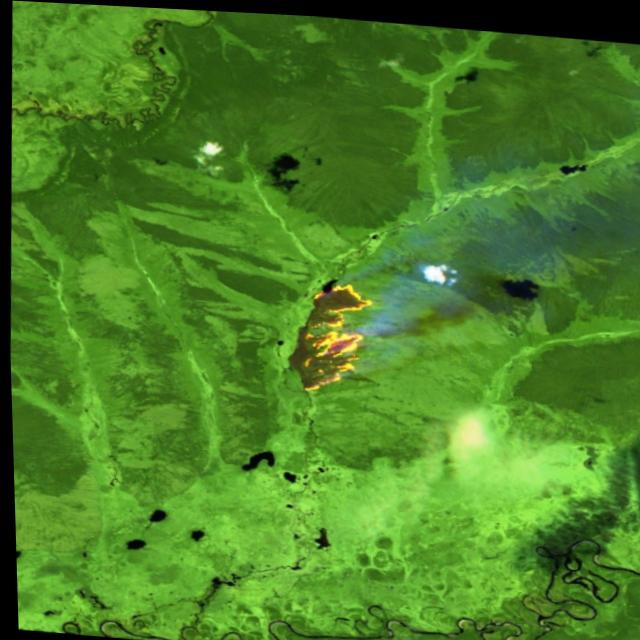fire: (284, 272, 378, 397)
